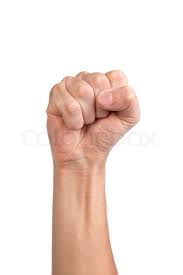fist: (39, 65, 143, 169)
